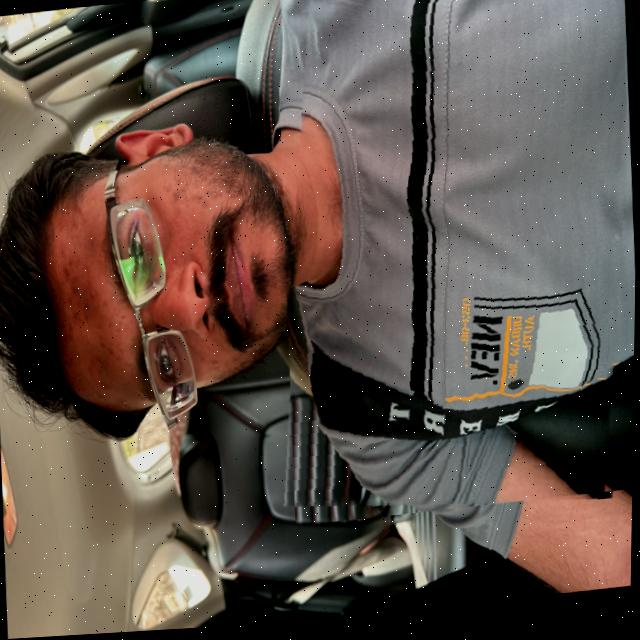no-seatbelt: (268, 0, 640, 531)
